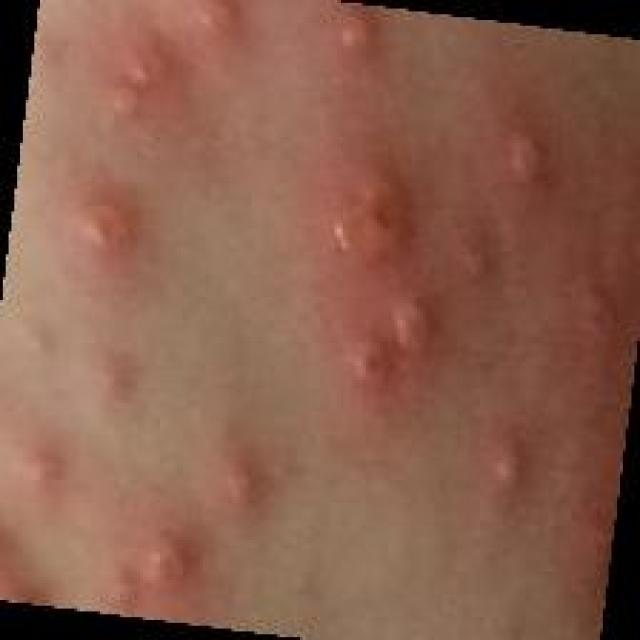others: (39, 6, 574, 637)
